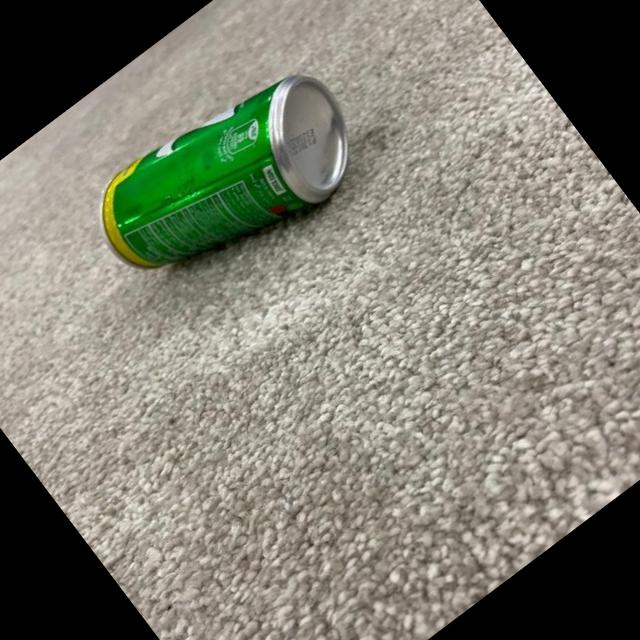Kaleng: (74, 39, 382, 323)
